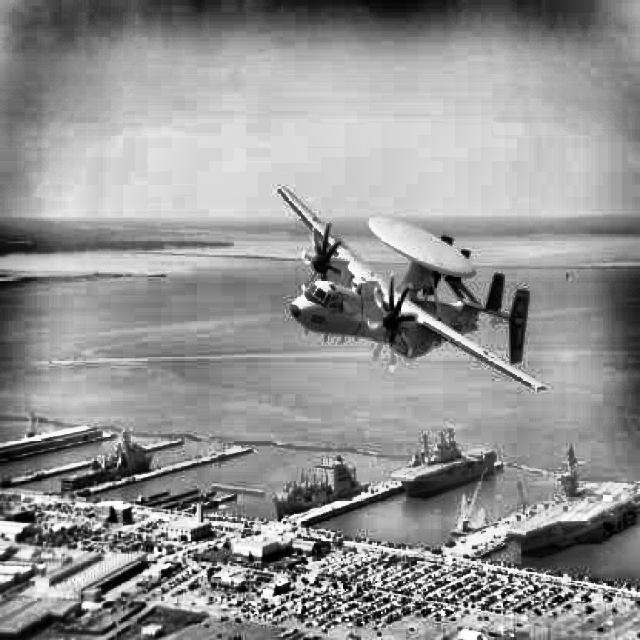E2: (277, 186, 546, 389)
